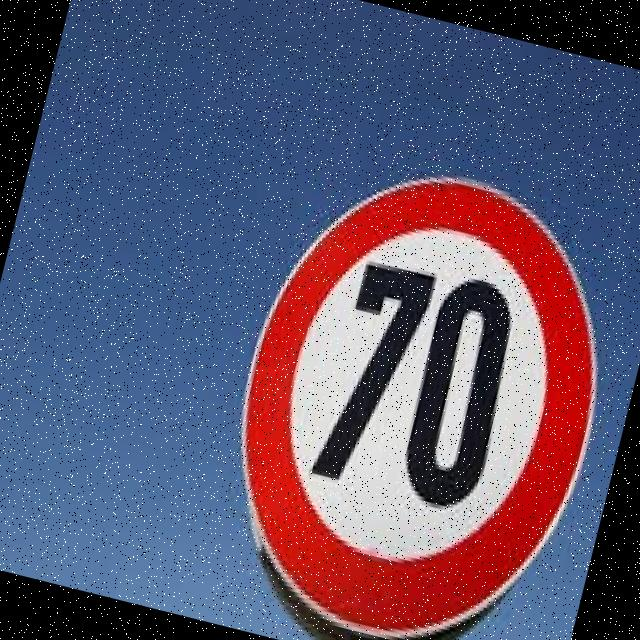speed_limit_70: (187, 130, 640, 640)
